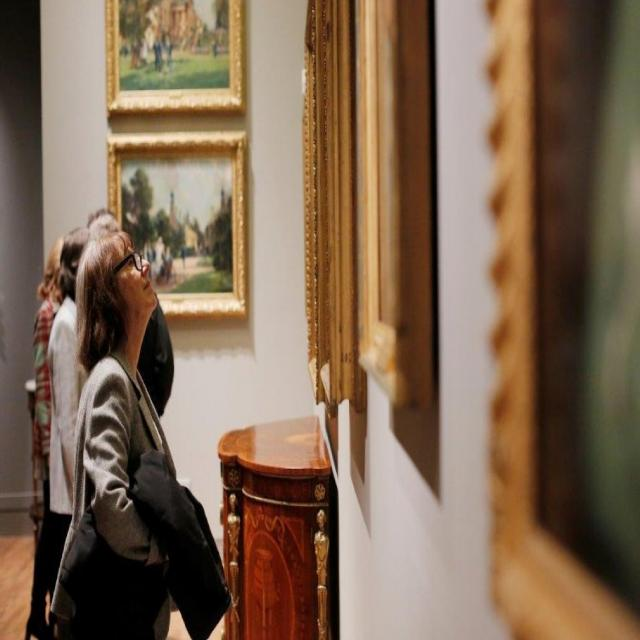Tablo: (116, 148, 238, 300), (116, 0, 233, 95)
